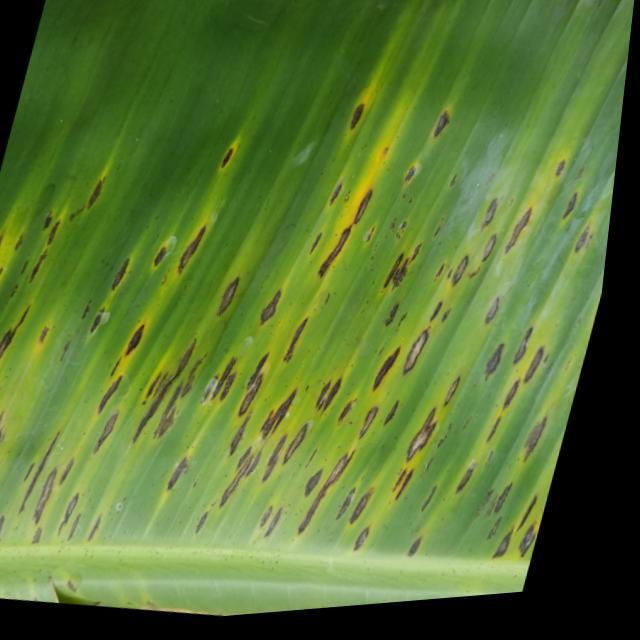Early_rust: (0, 56, 607, 581)
